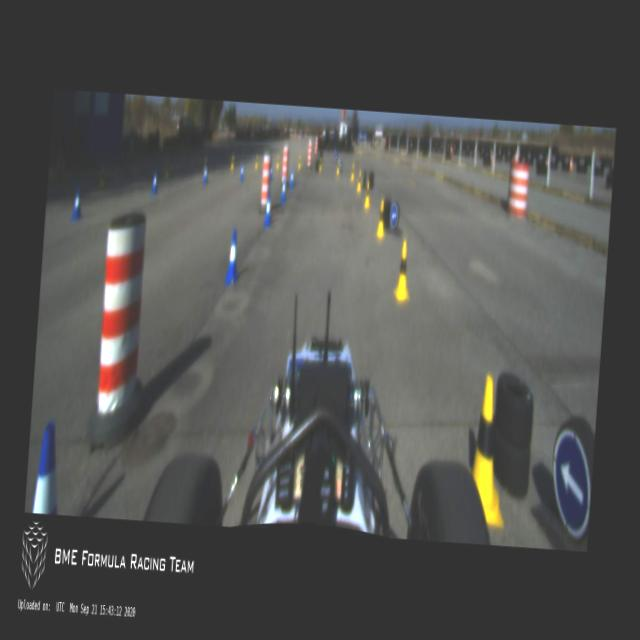blue_cone: (32, 419, 62, 514), (224, 228, 242, 286), (70, 187, 84, 222), (263, 193, 273, 227), (279, 177, 287, 202), (151, 170, 158, 194), (288, 166, 294, 188), (202, 164, 208, 184), (269, 161, 274, 180), (239, 162, 244, 180)
yellow_cone: (464, 374, 514, 527), (391, 238, 413, 302), (374, 198, 388, 238), (363, 180, 371, 208), (98, 166, 106, 189), (356, 168, 362, 192), (163, 158, 169, 178), (350, 162, 355, 182), (335, 158, 340, 176), (202, 156, 207, 173), (297, 154, 302, 170), (275, 153, 280, 169), (230, 154, 235, 170), (318, 156, 322, 172), (254, 153, 258, 169)
